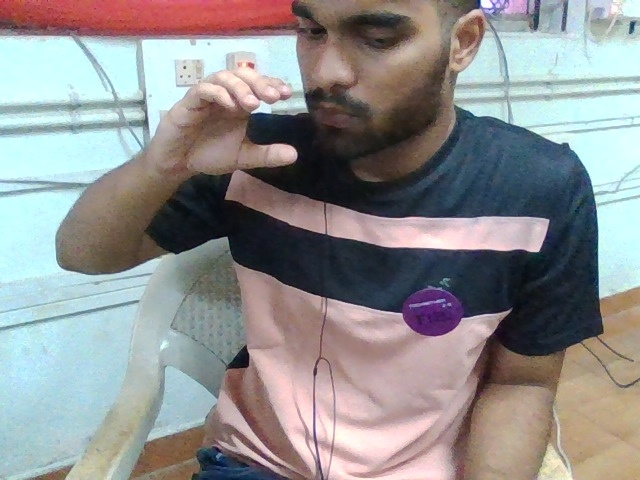Drink: (155, 44, 384, 209)
